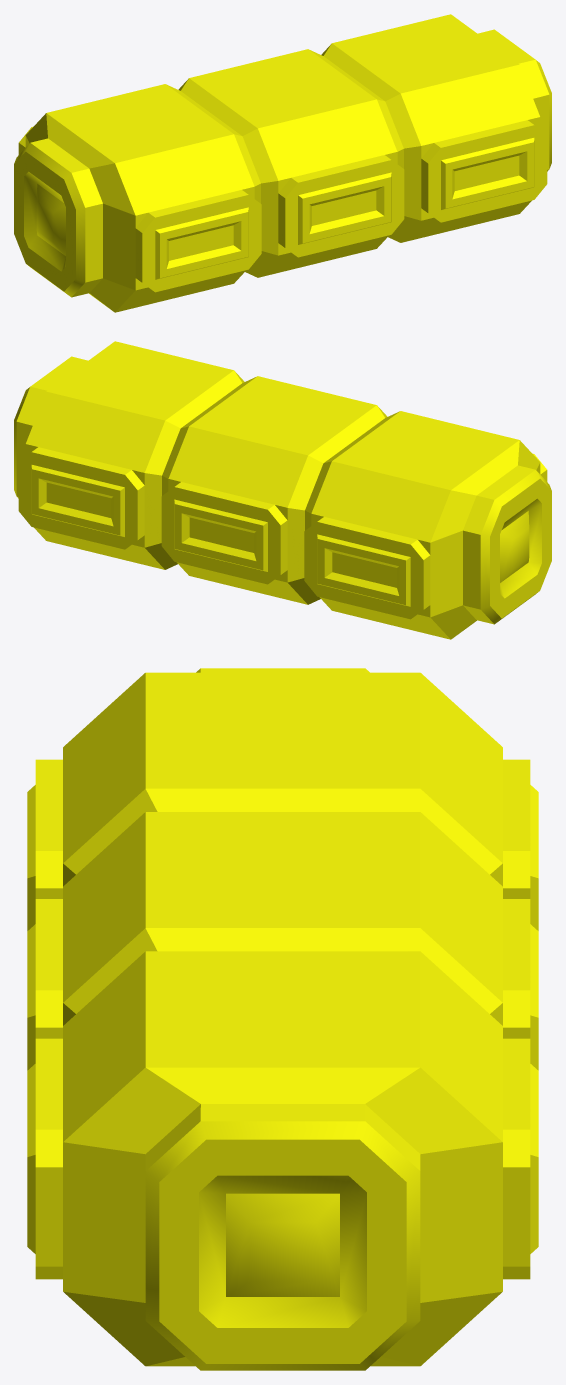
File: kaykit-tunnel-straight-a.glb
3 views of the same model, one above another, from view 1: azimuth 30°, elevation 25°; view 2: azimuth 150°, elevation 25°; view 3: azimuth 270°, elevation 25° (orthographic). The views are drawn at different scales.
Parts seen in each view (by area): view 1: tunnel_straight_A; view 2: tunnel_straight_A; view 3: tunnel_straight_A.
Part boxes in pixels (box(x1,y1,x2,y2)): tunnel_straight_A: box(14, 14, 551, 312); tunnel_straight_A: box(14, 341, 551, 639); tunnel_straight_A: box(27, 668, 538, 1370).
Size of the model in its own units: 2 by 0.5999 by 0.93.
